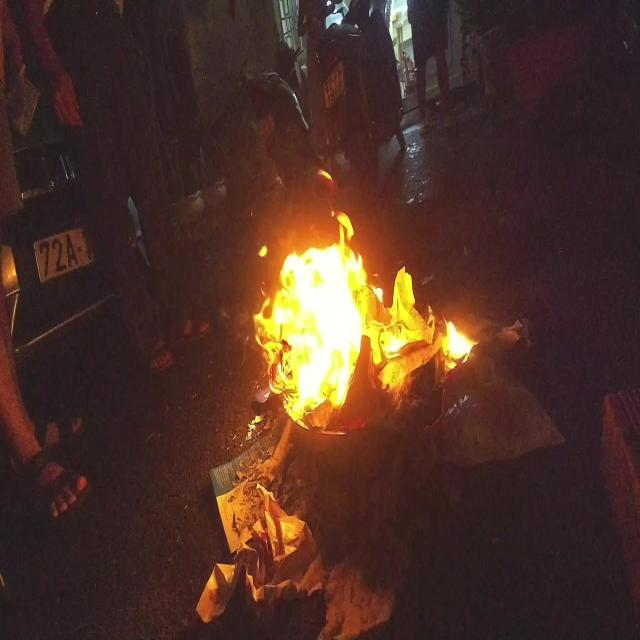Fire: (253, 166, 474, 426)
